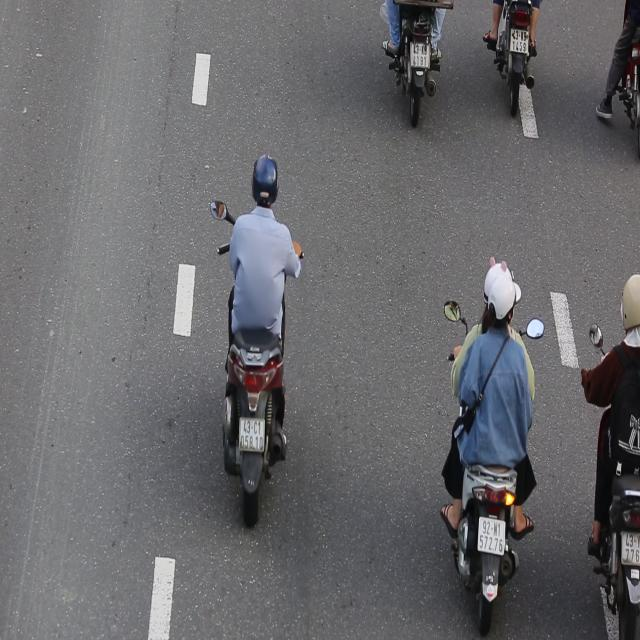motorbike: (443, 248, 545, 636), (203, 146, 305, 526)
